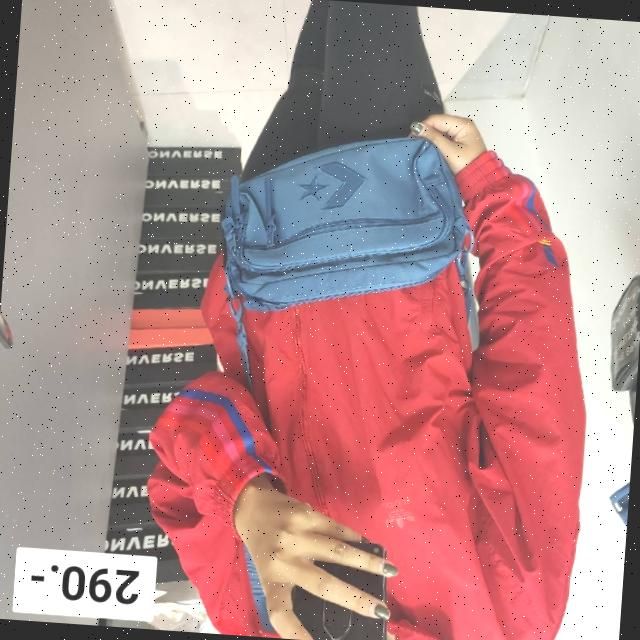handbag: (214, 119, 490, 343)
